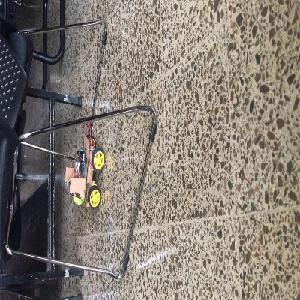Ball: (71, 195, 83, 204)
Robot: (64, 130, 104, 208)
